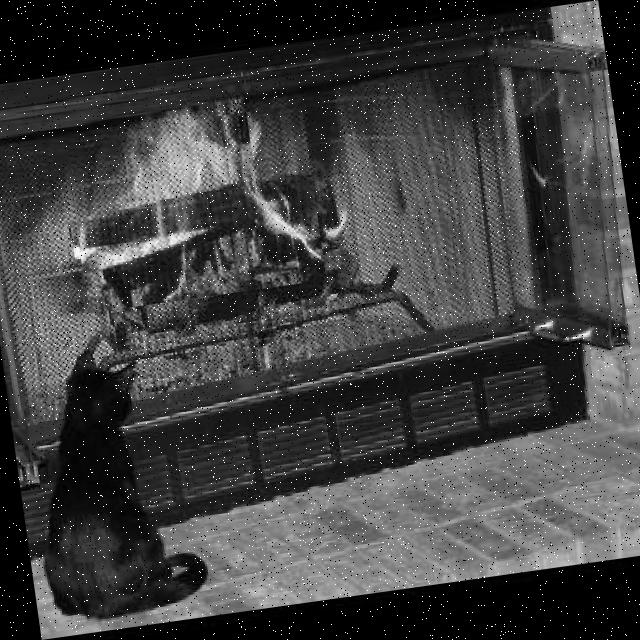fire: (65, 104, 326, 314)
